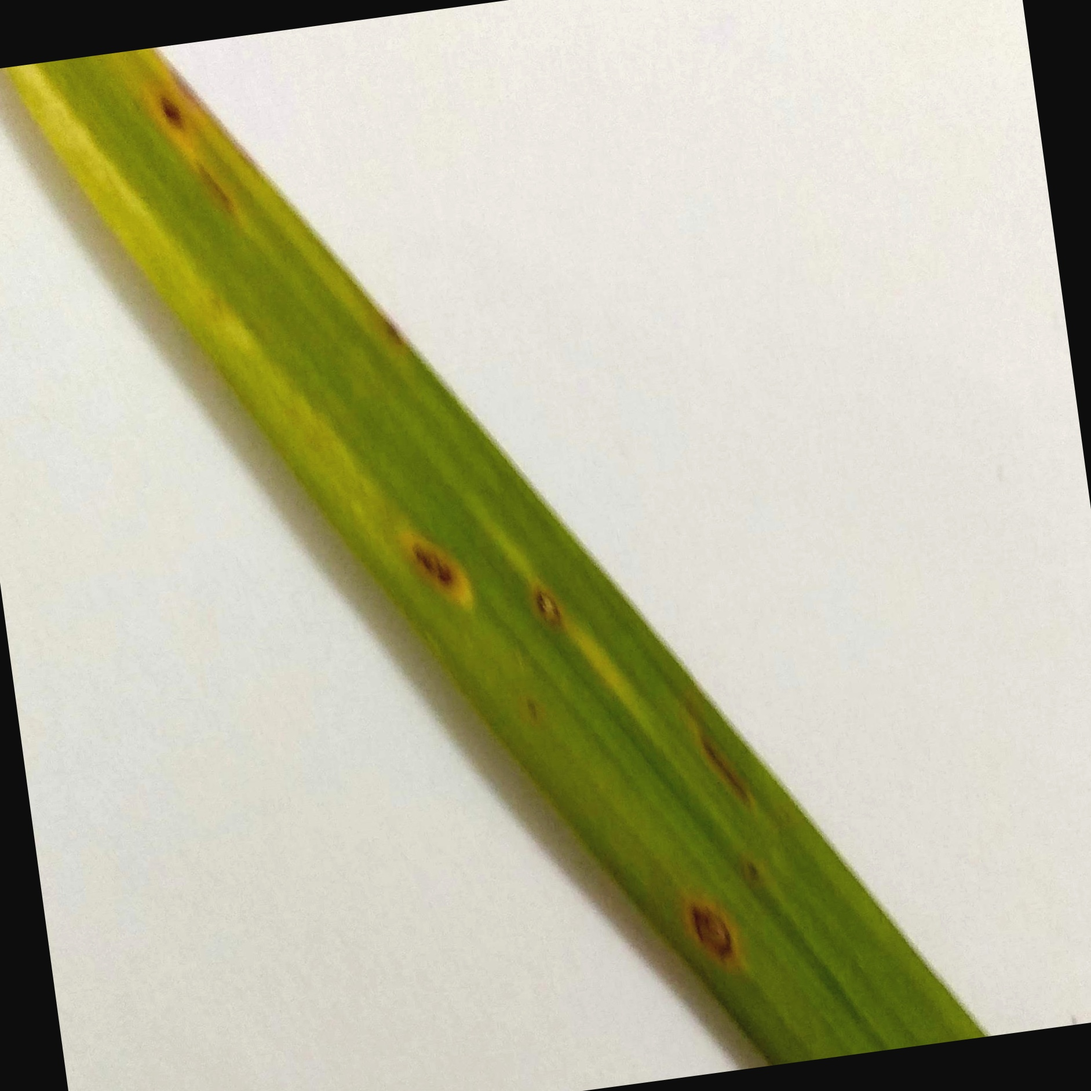Brown_Spot: (678, 868, 747, 978), (410, 515, 472, 617), (154, 84, 205, 133)
